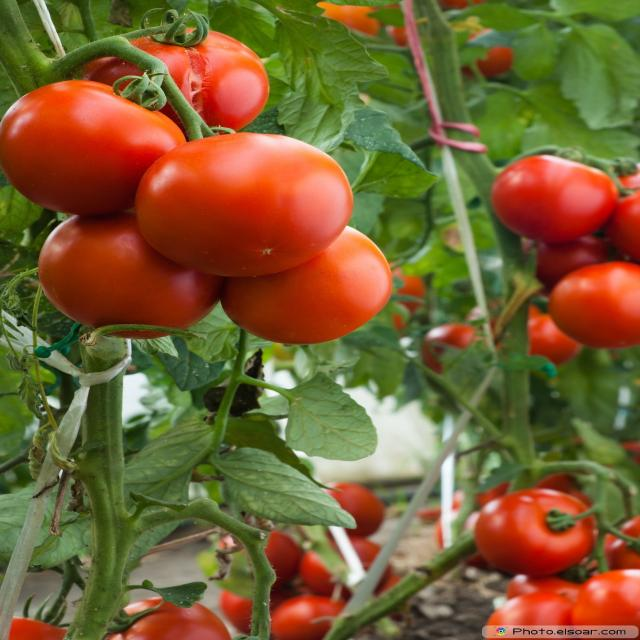tomato: (141, 125, 362, 271), (0, 68, 177, 210), (466, 484, 600, 576), (488, 153, 620, 245)
